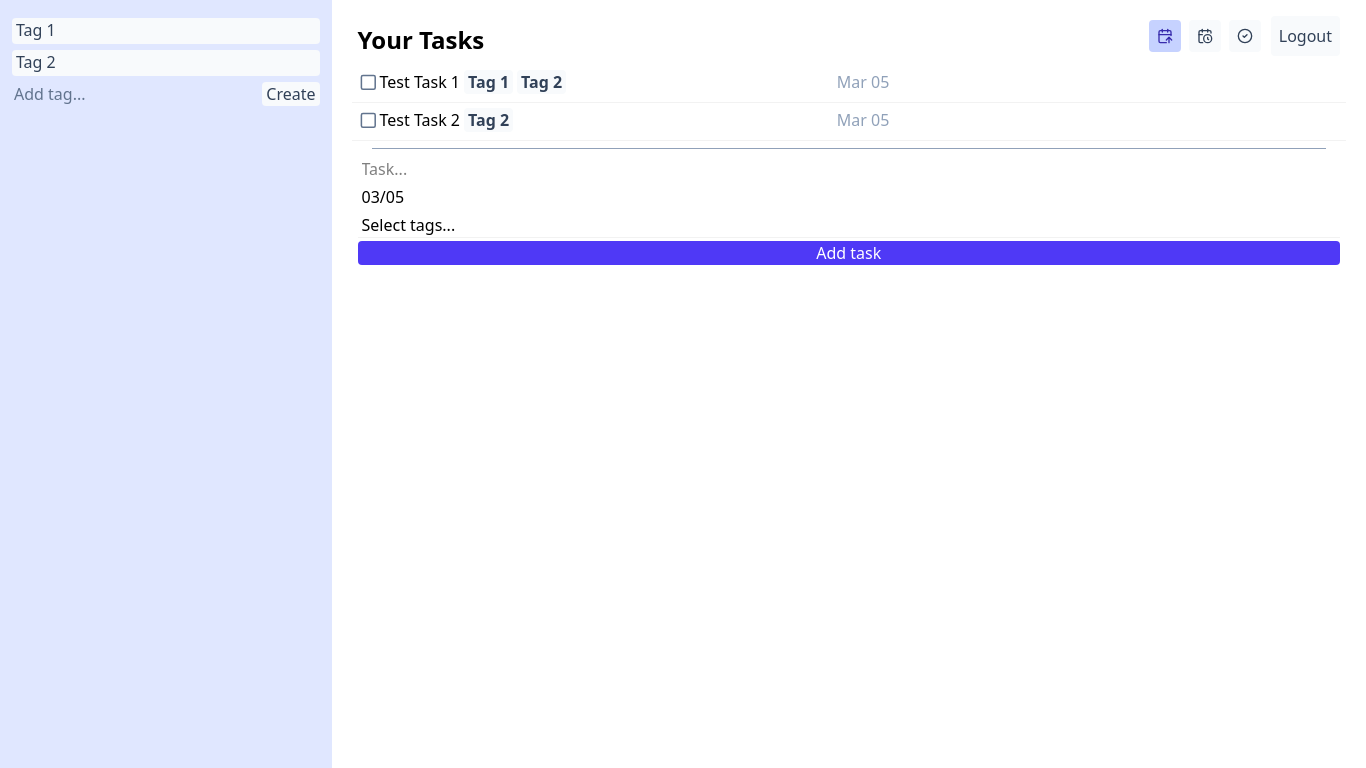
Test: Tag integration tests › Create a tag then create a task with that tag
# create a new tag
Step 1. Type "New Tag" into the field with placeholder "Add tag..." → (131, 94), box [12, 82, 250, 106]
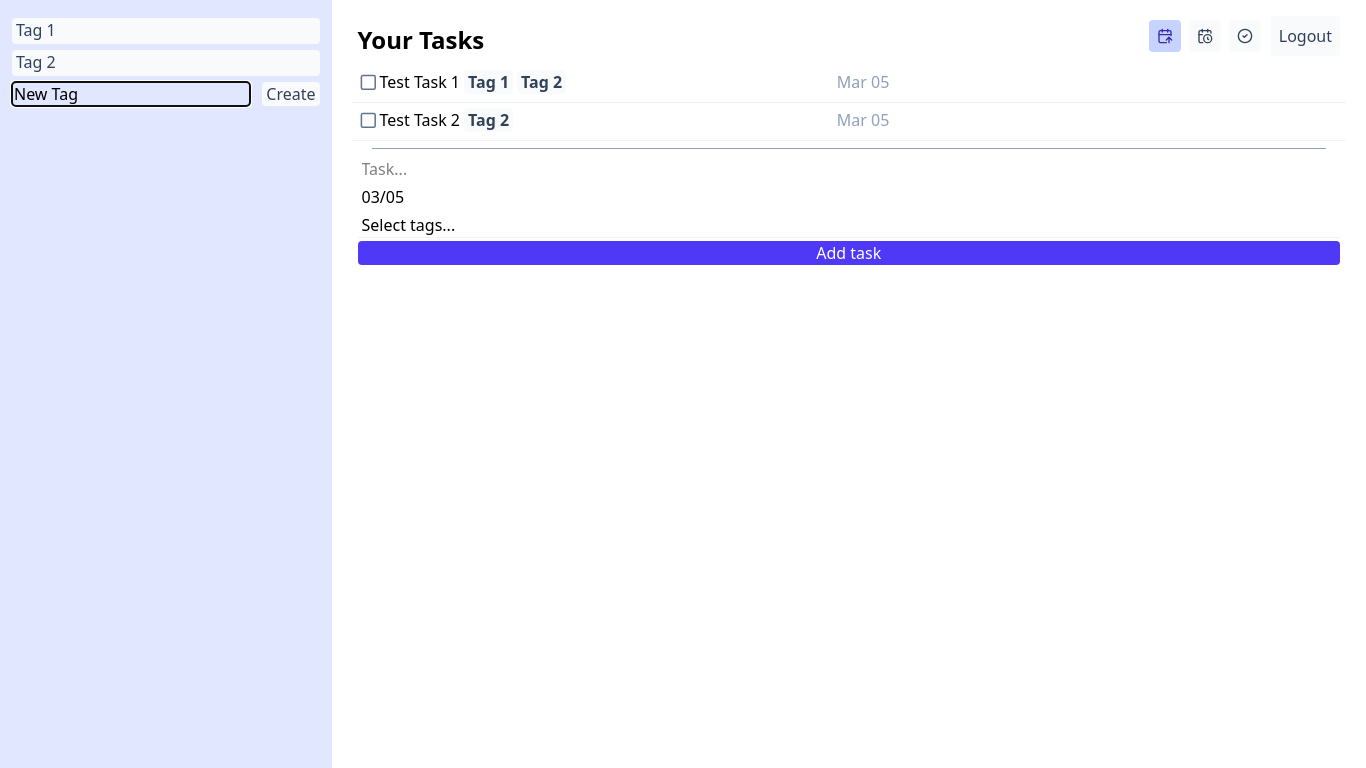
Step 2. Click the button "Create" → (291, 94), box [262, 82, 320, 106]
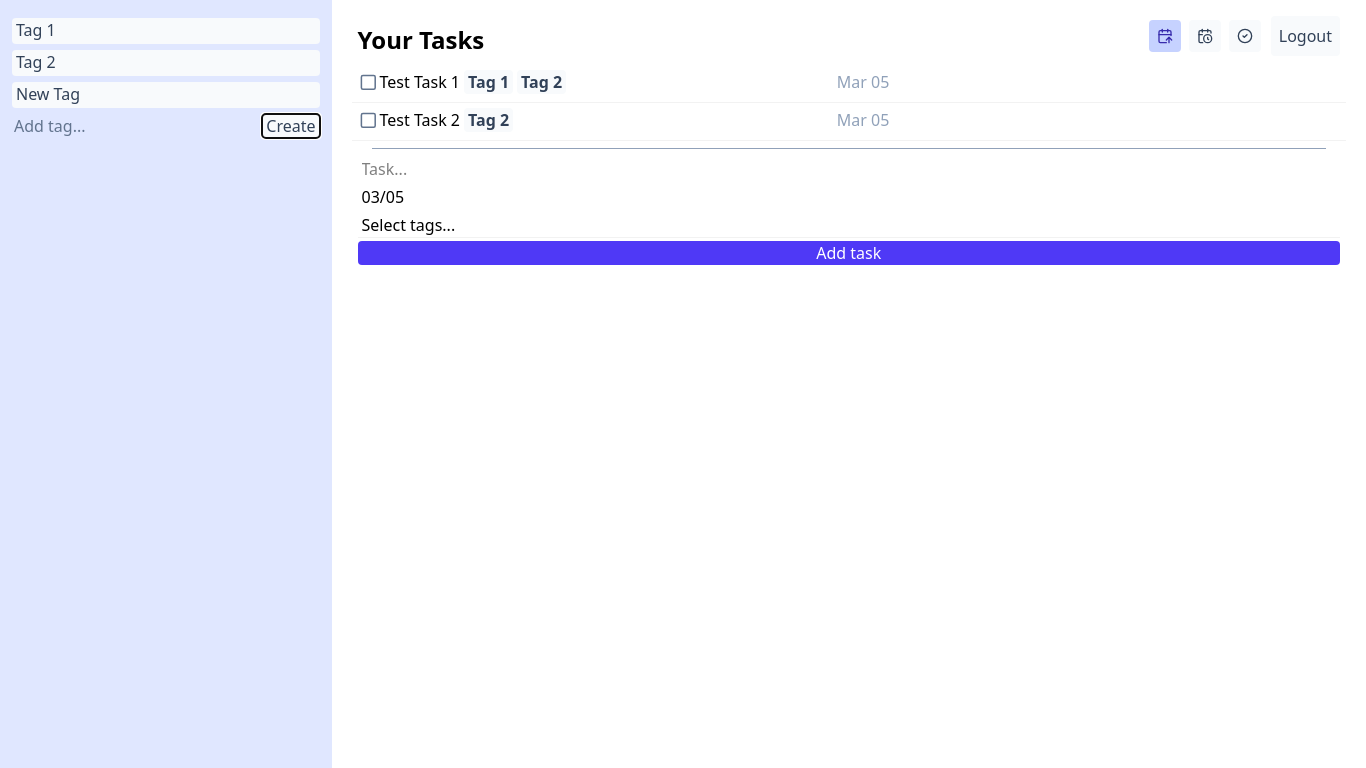
# create a new task with that tag
Step 3. Type "New Task" into the field with placeholder "Task..." → (849, 169), box [358, 157, 1340, 181]
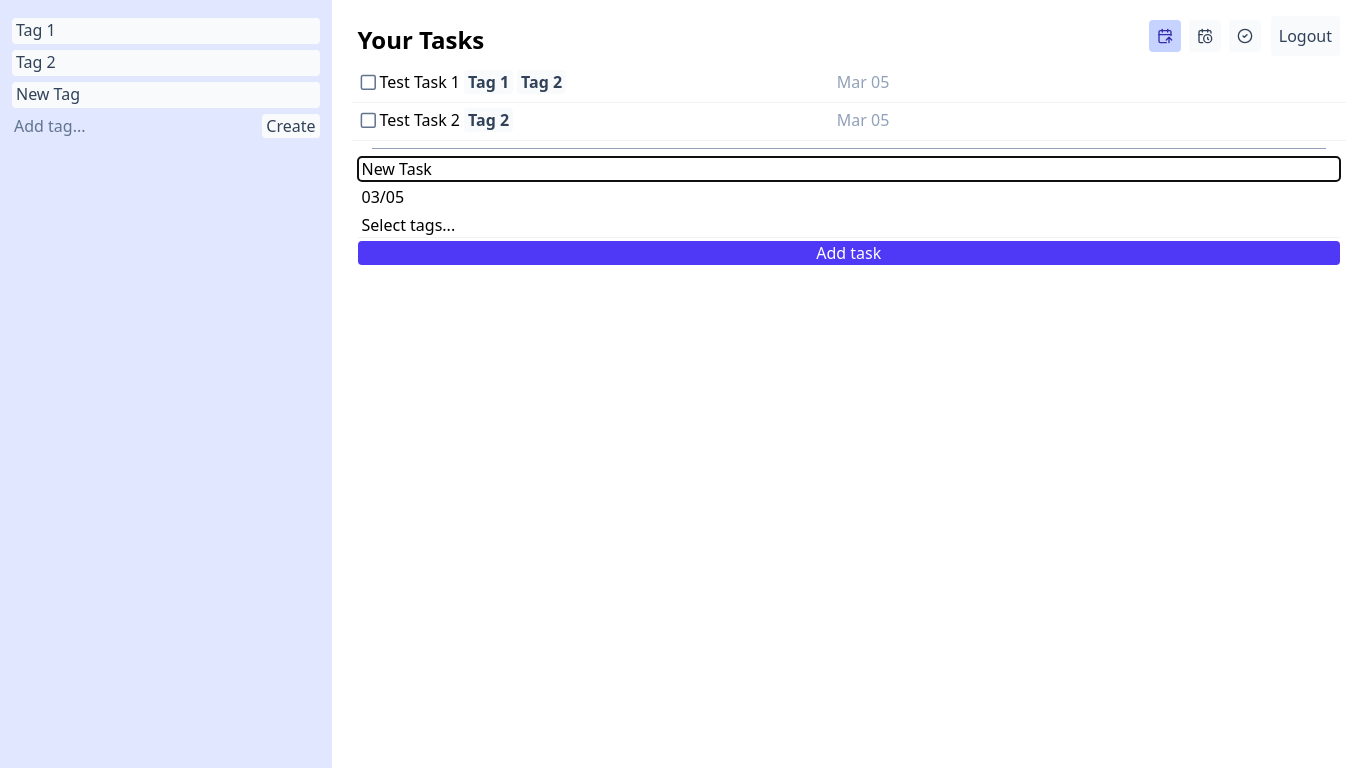
Step 4. Click the button "Select tags..." → (410, 225), box [358, 213, 463, 237]
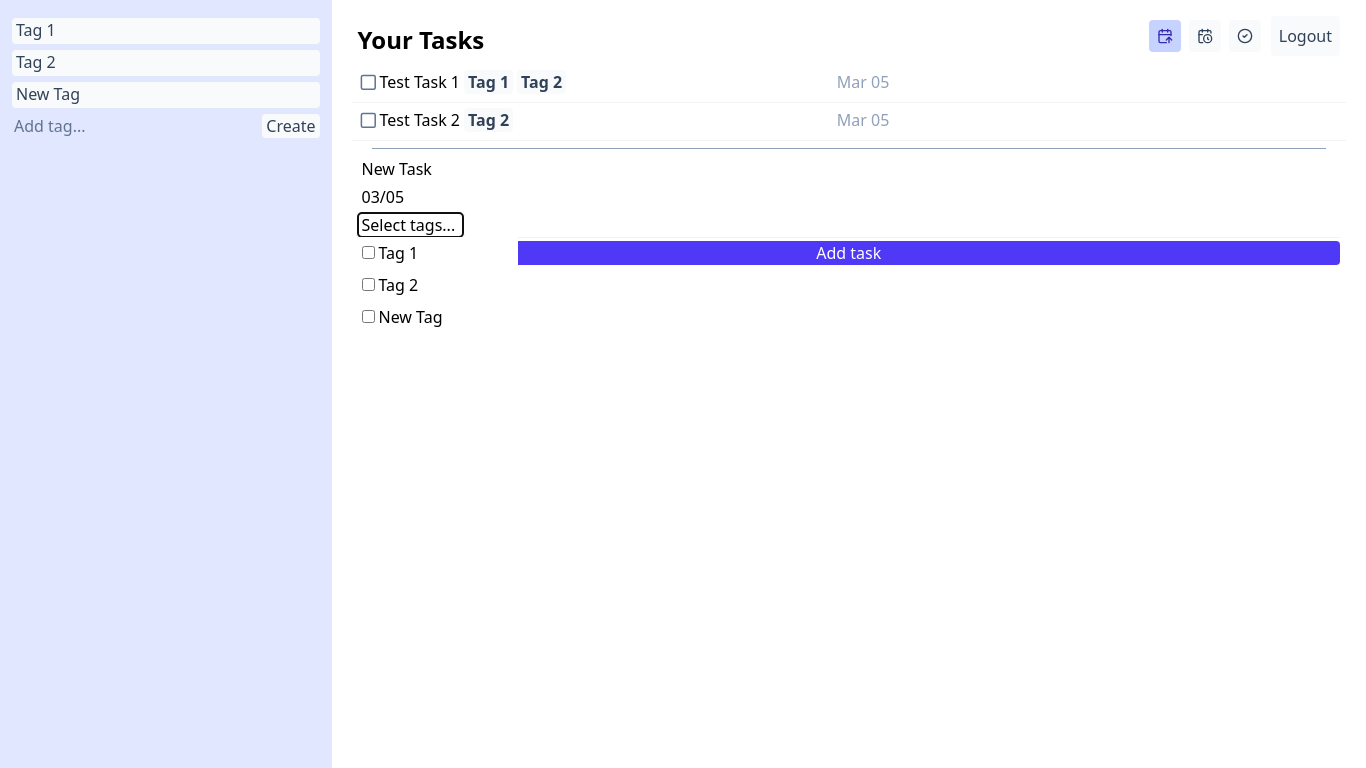
Step 5. Click the 2nd text "New Tag" → (410, 317), box [378, 306, 442, 328]
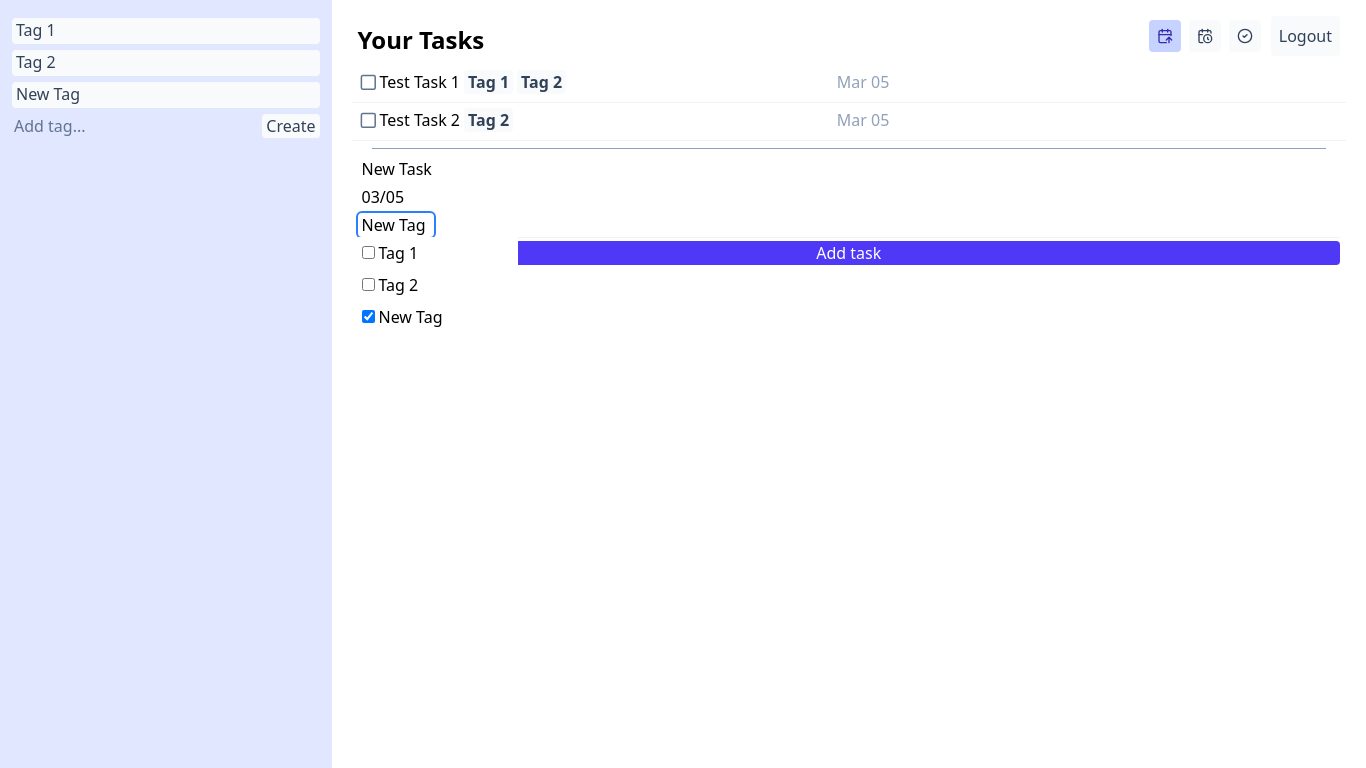
Step 6. Click the button "Add task" → (849, 253), box [358, 241, 1340, 265]
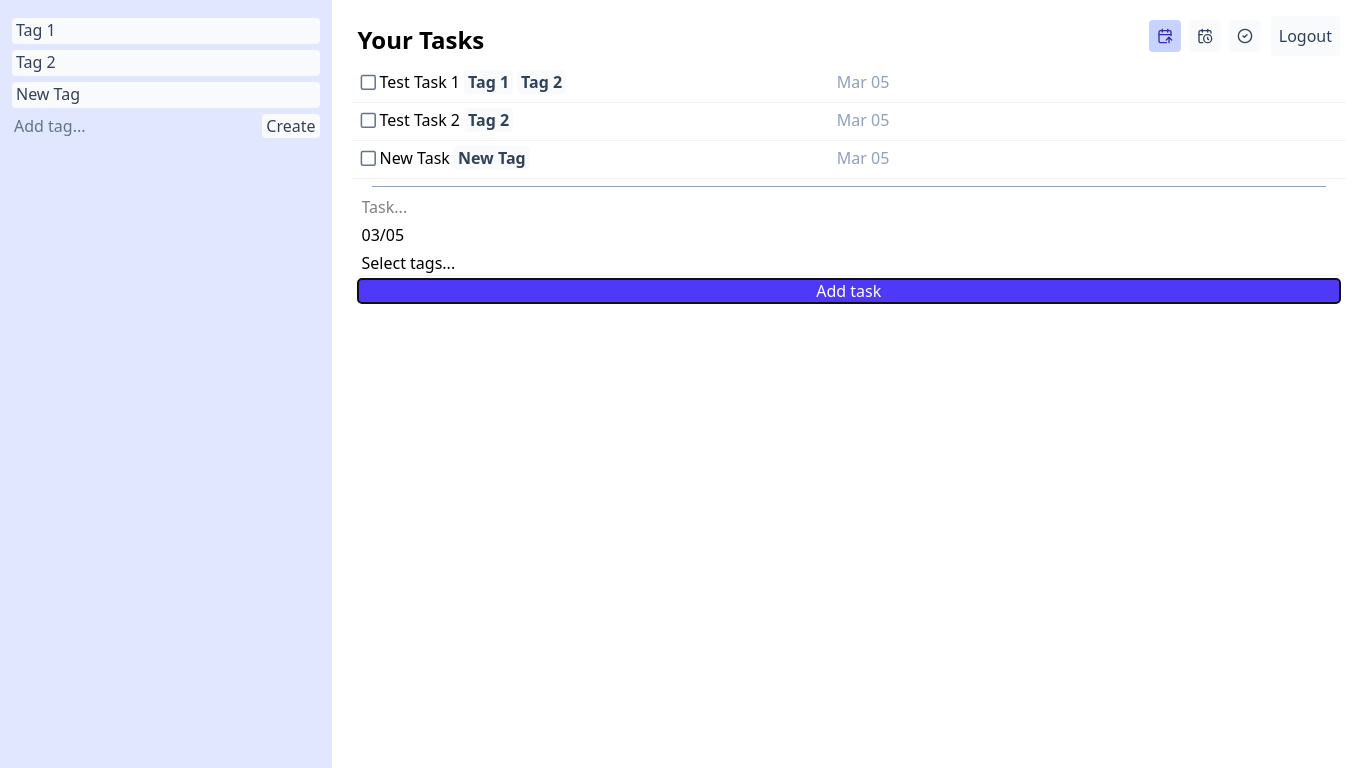
Check: the text "New Task" is shown, box [380, 146, 450, 172]
